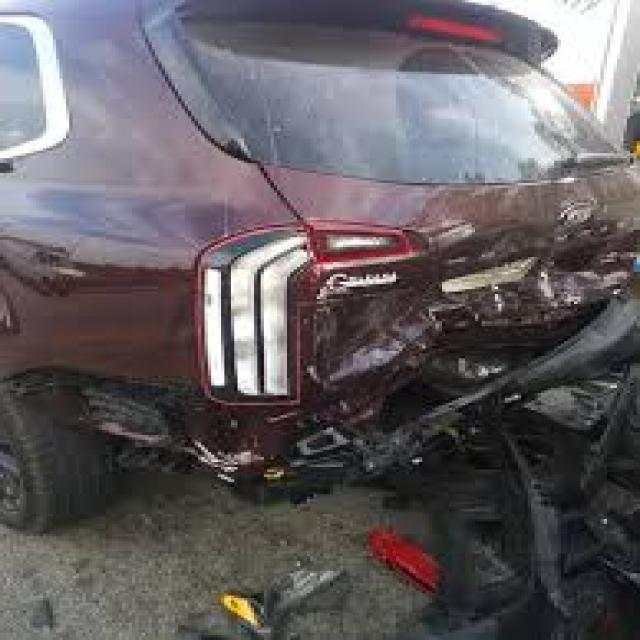damaged-rear-bumper: (78, 382, 410, 484)
